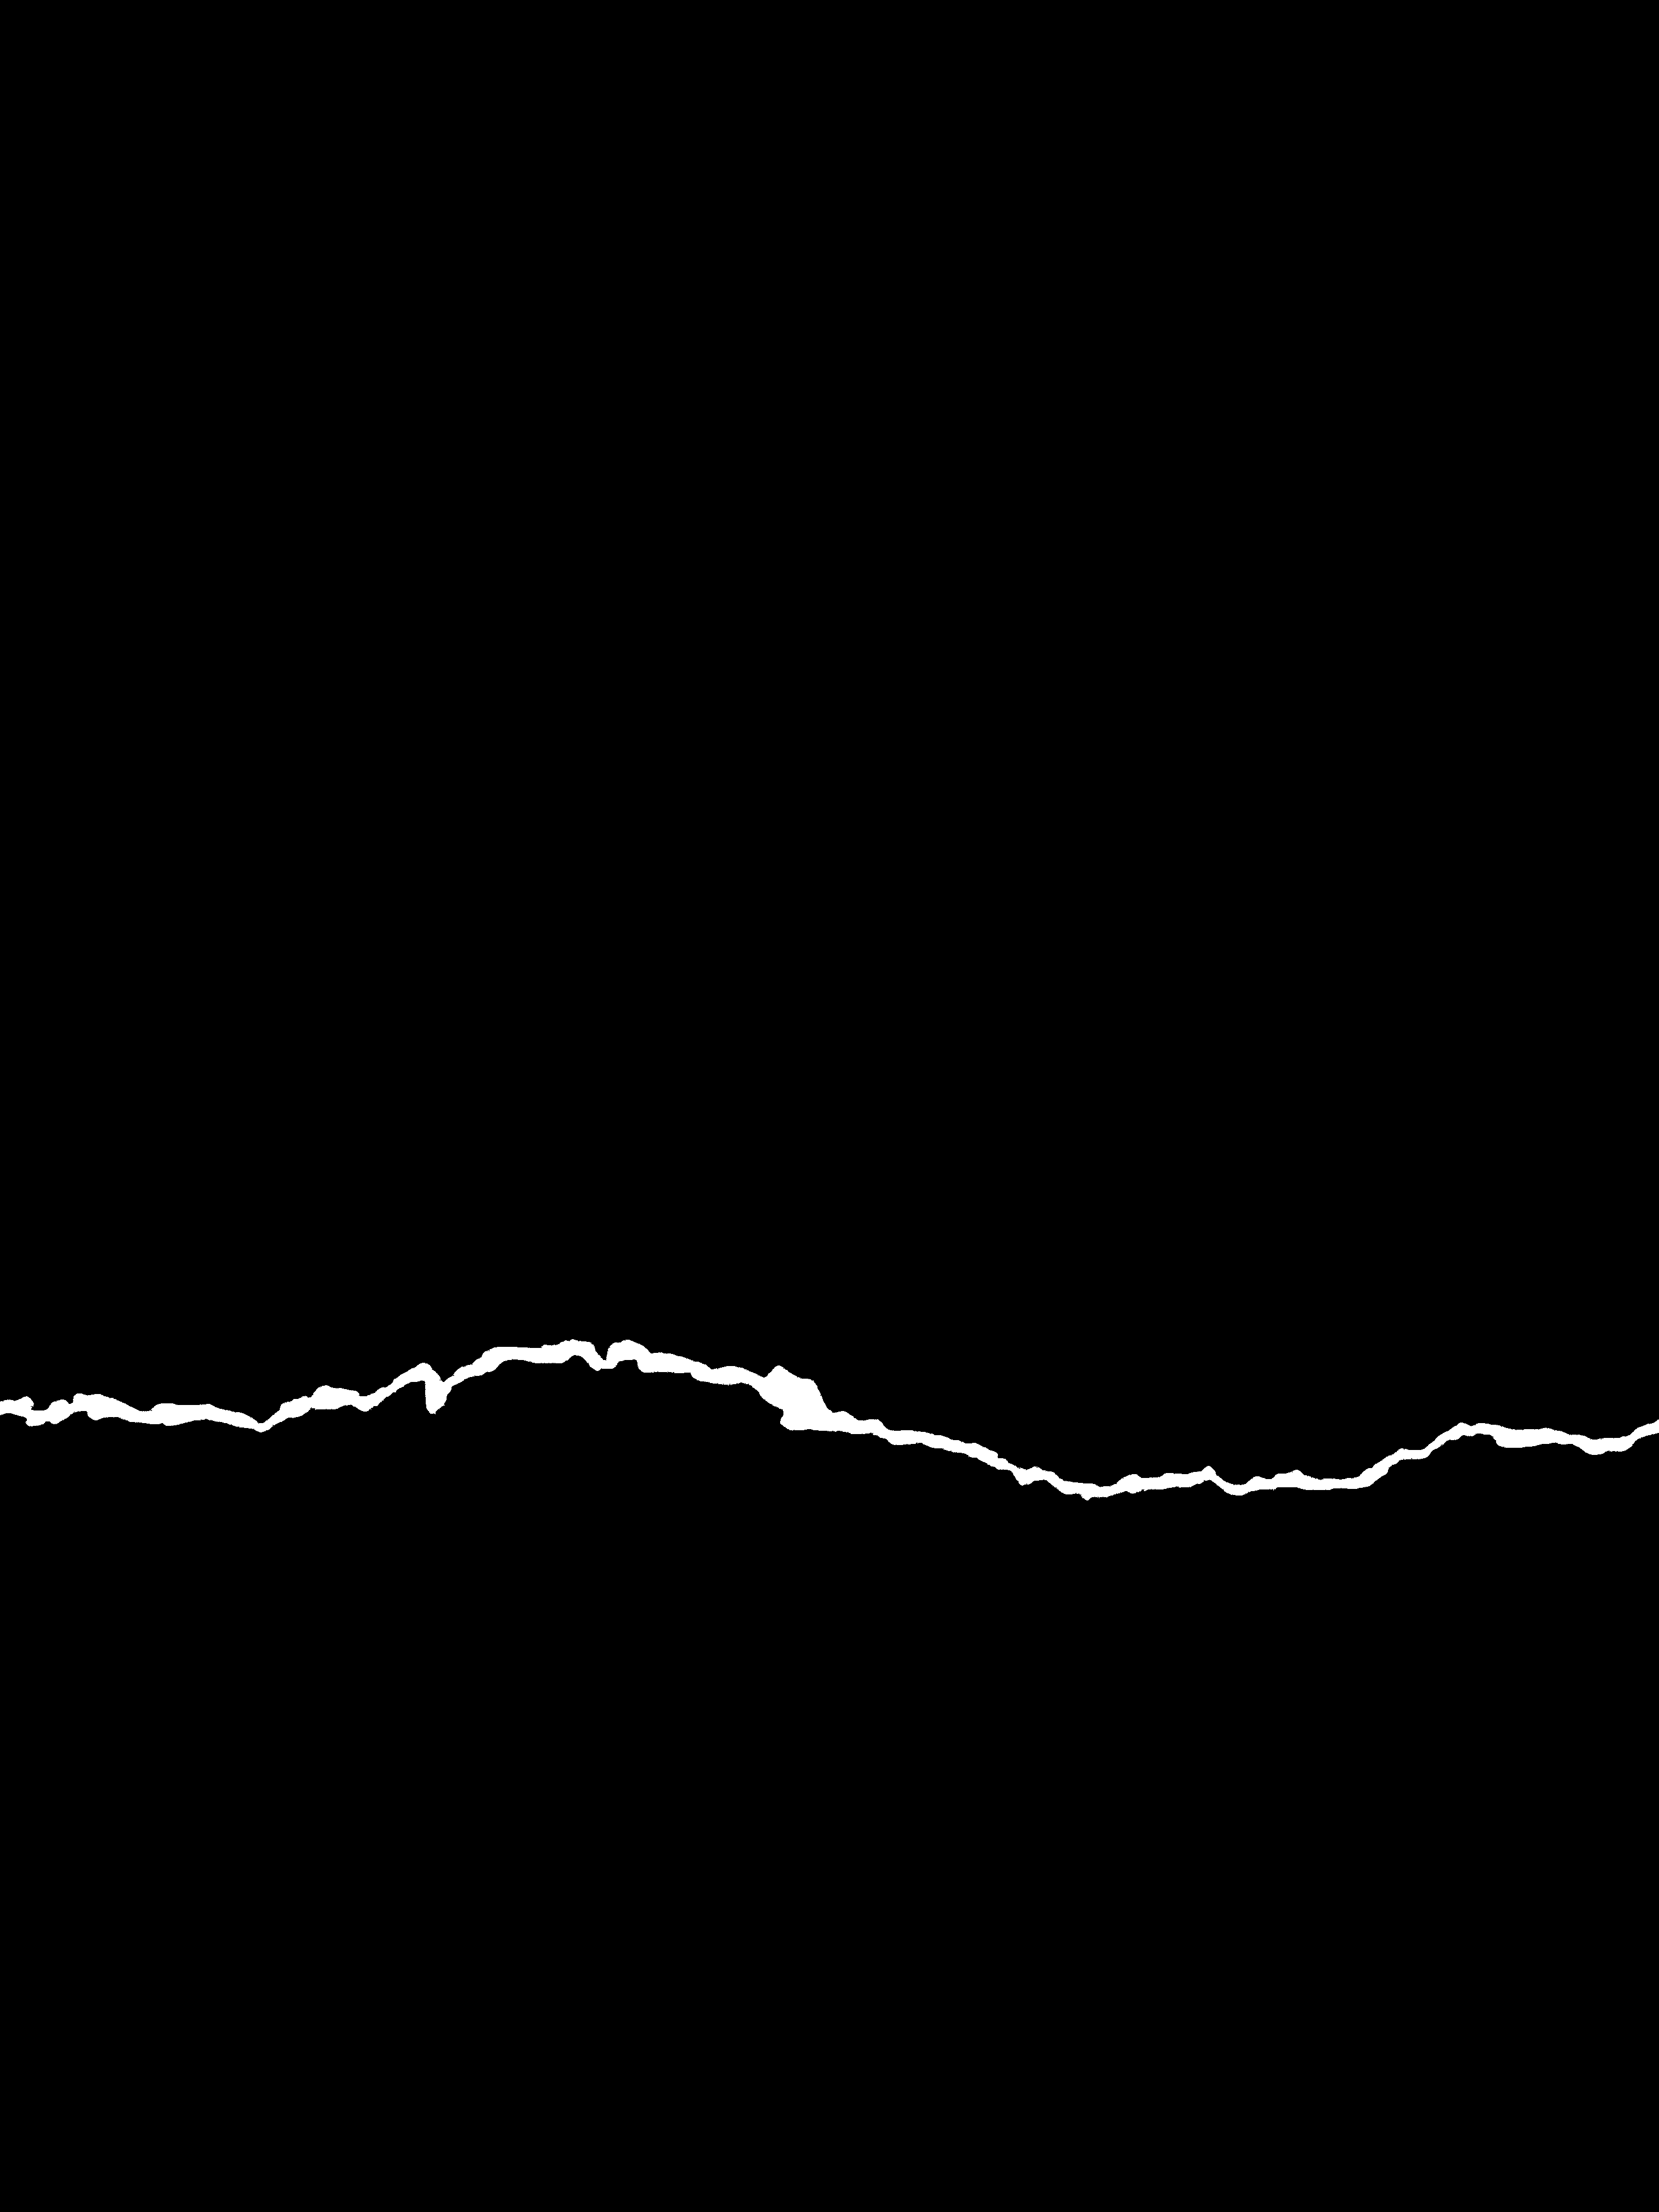Crack: (0, 1312, 1659, 1517)
